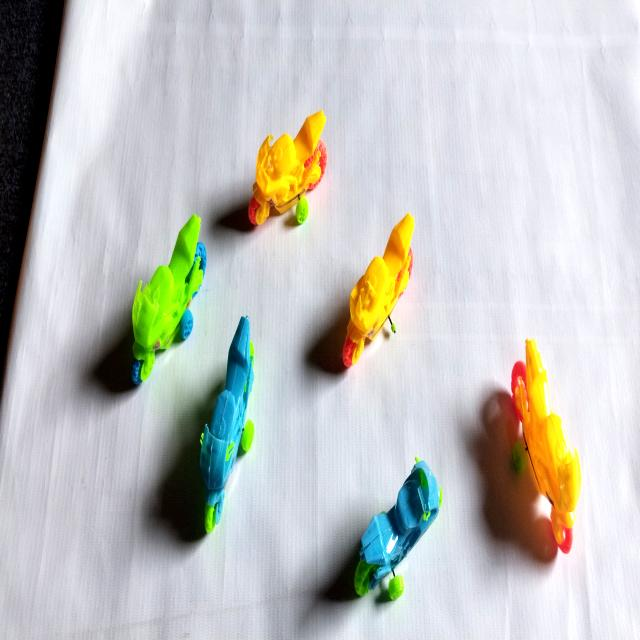bikes: (511, 340, 581, 554), (131, 214, 206, 384), (355, 458, 442, 600), (200, 316, 254, 533), (343, 213, 414, 367), (248, 111, 328, 225)
